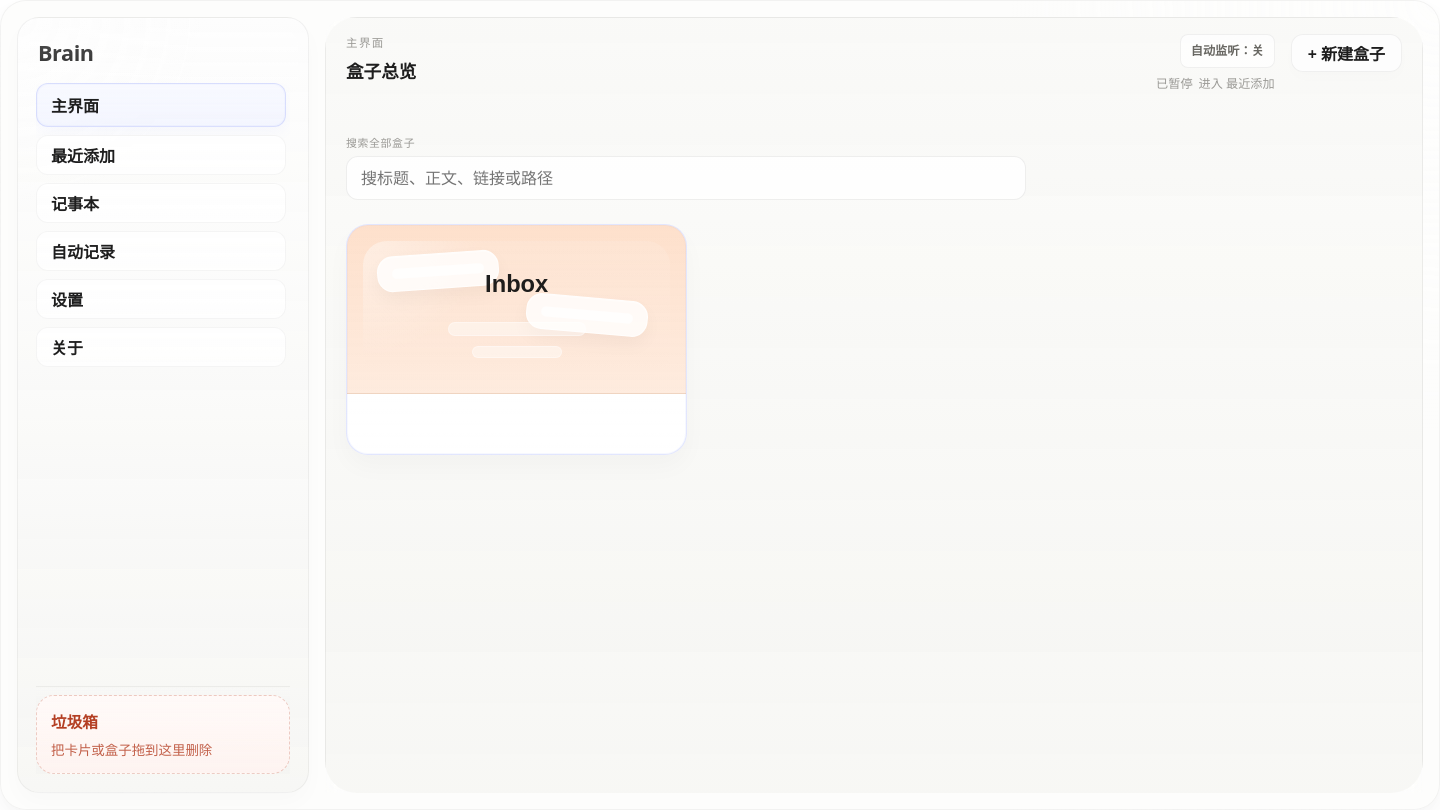
Test: App › loads storage usage and runs storage cleanup from settings
The image size is (1440, 810).
Click the button with aria-label "打开设置" at (161, 299), box [36,279,286,319]
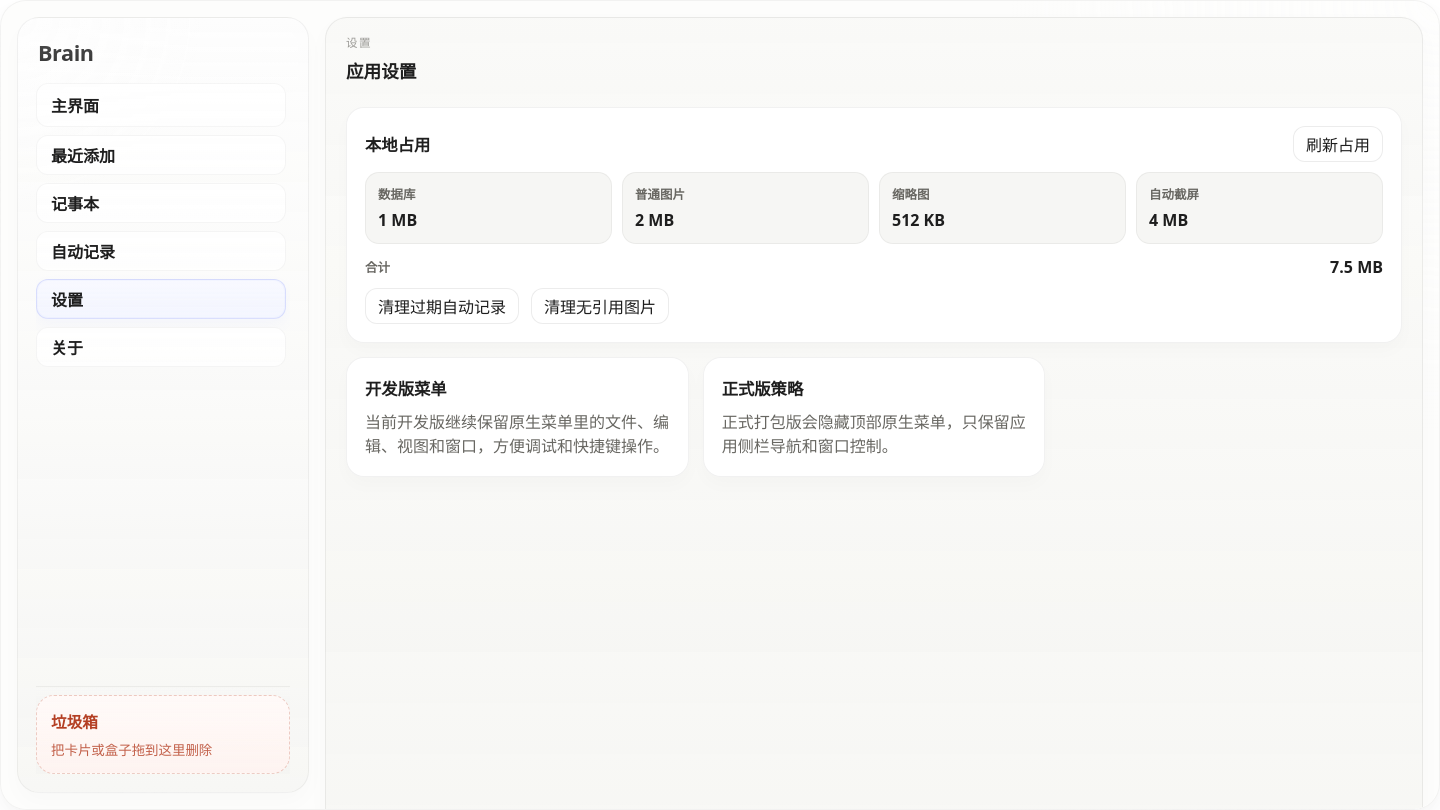
Check: the element named "本地占用合计" shows "7.5 MB", box [1330,256,1383,278]
Click the button "清理无引用图片" at (600, 306), box [531,288,669,324]
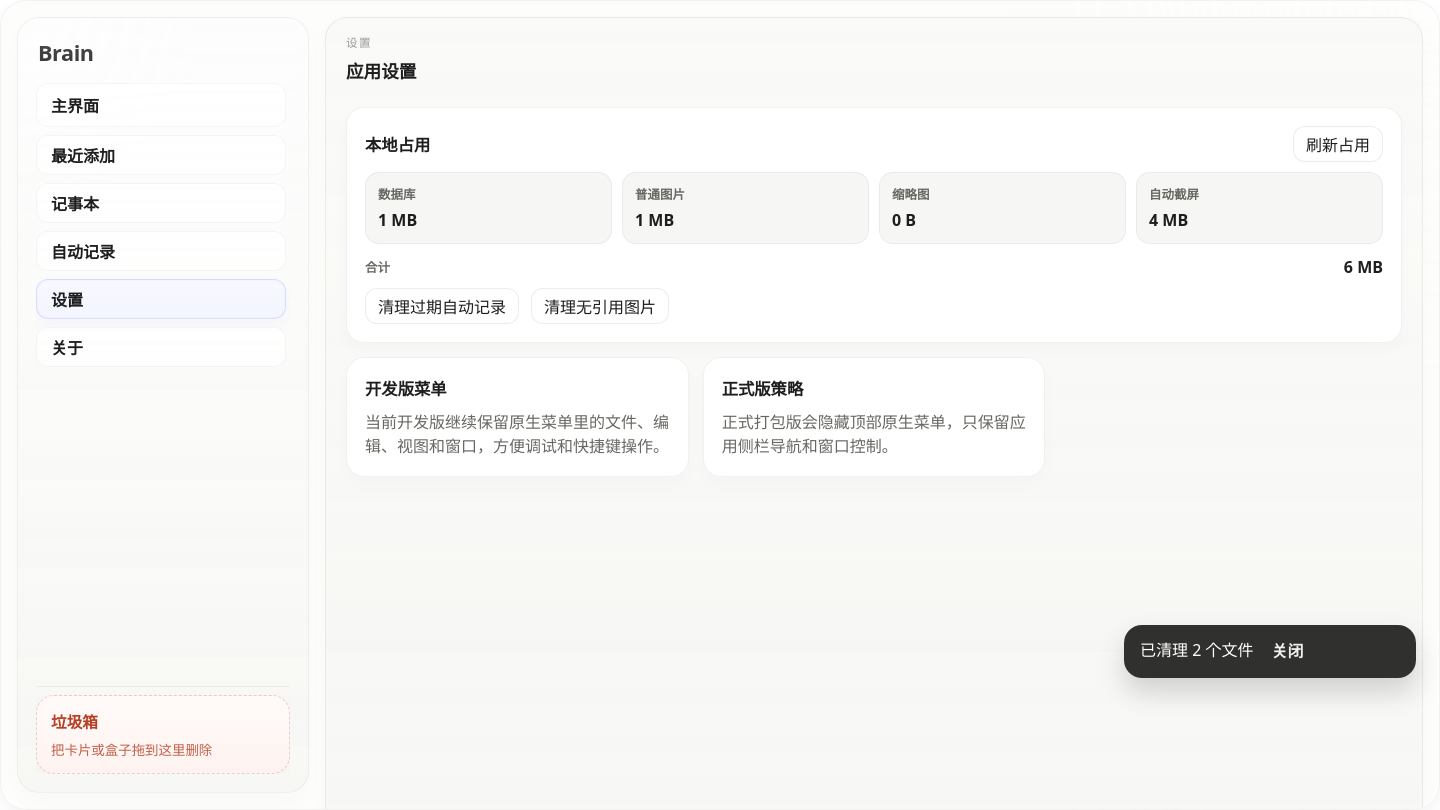
Check: the element named "本地占用合计" shows "6 MB", box [1344,256,1383,278]
Check: the text "已清理 2 个文件" is shown, box [1140,639,1254,662]
